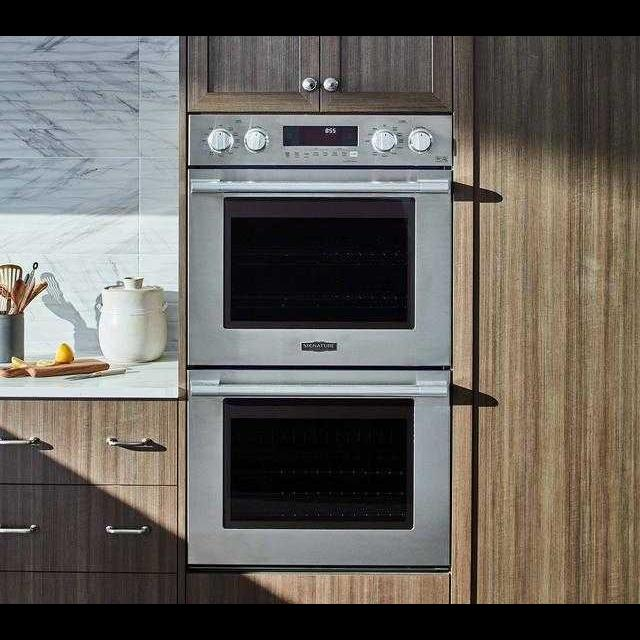Oven: (186, 110, 454, 578)
